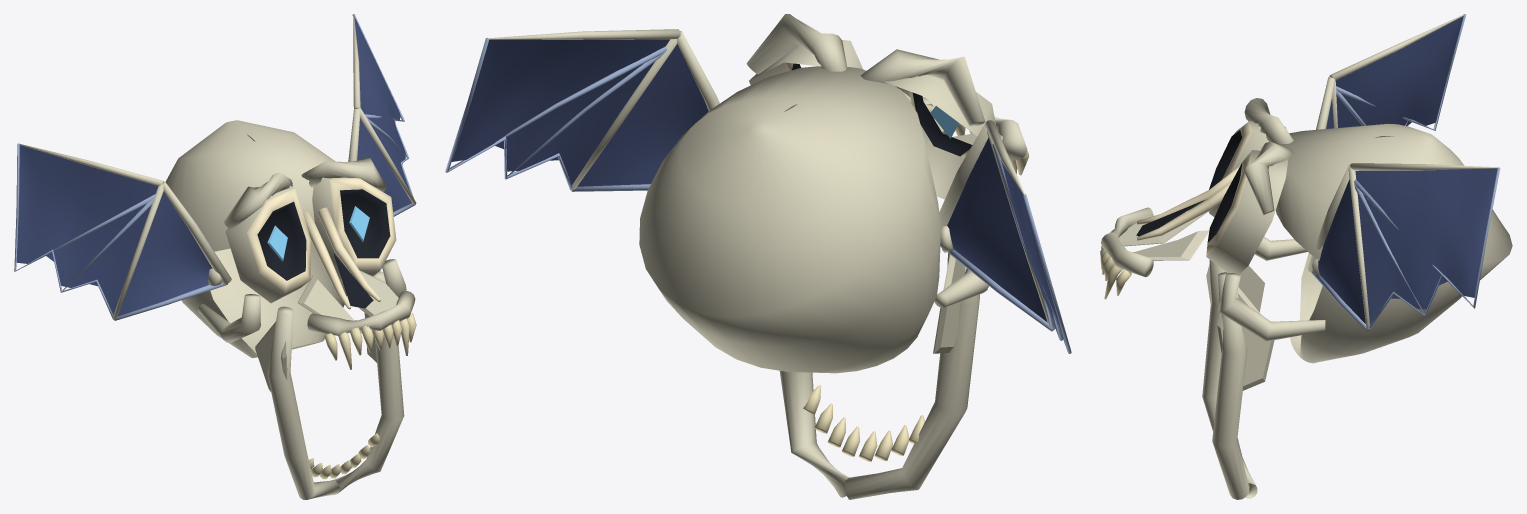
File: bubbles.glb
3 renders of one model, left to right at view 1: azimuth 30°, elevation 25°; view 2: azimuth 150°, elevation 25°; view 3: azimuth 270°, elevation 25°, orthographic. The views are drawn at different scales.
Parts seen in each view (by area): view 1: Bubble.0.15.open cranial vault, Bubble.0.13.scalloped distal membrane, Bubble.0.15.deep splayed orbital socket, Bubble.0.14.pliant proximal membrane, Bubble.0.15.deep splayed orbital socket.001, Bubble.0.04.continuous lower jaw, Bubble.0.04.continuous lower jaw.001, Bubble.0.08.scalloped distal membrane, Bubble.0.15.upper dental arch, Bubble.0.15.zygomatic cheek arch, Bubble.0.15.heavy curved brow.001, Bubble.0.09.pliant proximal membrane (+17 smaller); view 2: Bubble.0.15.open cranial vault, Bubble.0.08.scalloped distal membrane, Bubble.0.09.pliant proximal membrane, Bubble.0.14.pliant proximal membrane, Bubble.0.04.continuous lower jaw, Bubble.0.15.deep splayed orbital socket, Bubble.0.15.heavy curved brow, Bubble.0.04.continuous lower jaw.001, Bubble.0.15.heavy curved brow.001, Bubble.0.13.scalloped distal membrane, Bubble.0.08.leading wing finger, Bubble.0.04.ascending mandibular ramus (+11 smaller); view 3: Bubble.0.15.open cranial vault, Bubble.0.08.scalloped distal membrane, Bubble.0.13.scalloped distal membrane, Bubble.0.15.deep splayed orbital socket.001, Bubble.0.04.continuous lower jaw.001, Bubble.0.09.pliant proximal membrane, Bubble.0.15.zygomatic cheek arch.001, Bubble.0.04.continuous lower jaw, Bubble.0.15.upper dental arch, Bubble.0.15.deep splayed orbital socket, Bubble.0.04.ascending mandibular ramus.001, Bubble.0.15.heavy curved brow.001 (+15 smaller).
Boxes of the visible parts, bbox=[...] form: Bubble.0.15.open cranial vault: bbox=[165, 120, 346, 358]; Bubble.0.13.scalloped distal membrane: bbox=[16, 145, 158, 314]; Bubble.0.15.deep splayed orbital socket: bbox=[225, 185, 311, 303]; Bubble.0.14.pliant proximal membrane: bbox=[117, 192, 212, 316]; Bubble.0.15.deep splayed orbital socket.001: bbox=[312, 177, 396, 279]; Bubble.0.04.continuous lower jaw: bbox=[267, 306, 340, 499]; Bubble.0.04.continuous lower jaw.001: bbox=[334, 271, 404, 493]; Bubble.0.08.scalloped distal membrane: bbox=[354, 17, 409, 190]; Bubble.0.15.upper dental arch: bbox=[307, 290, 415, 335]; Bubble.0.15.zygomatic cheek arch: bbox=[198, 294, 260, 342]; Bubble.0.15.heavy curved brow.001: bbox=[301, 157, 386, 192]; Bubble.0.09.pliant proximal membrane: bbox=[357, 118, 411, 211]; Bubble.0.15.open cranial vault: bbox=[639, 66, 940, 373]; Bubble.0.08.scalloped distal membrane: bbox=[451, 39, 670, 184]; Bubble.0.09.pliant proximal membrane: bbox=[577, 44, 708, 186]; Bubble.0.14.pliant proximal membrane: bbox=[947, 138, 1047, 322]; Bubble.0.04.continuous lower jaw: bbox=[845, 253, 979, 499]; Bubble.0.15.deep splayed orbital socket: bbox=[884, 75, 996, 199]; Bubble.0.15.heavy curved brow: bbox=[860, 49, 985, 126]; Bubble.0.04.continuous lower jaw.001: bbox=[779, 371, 849, 497]; Bubble.0.15.heavy curved brow.001: bbox=[746, 14, 847, 74]; Bubble.0.13.scalloped distal membrane: bbox=[1001, 160, 1060, 327]; Bubble.0.08.leading wing finger: bbox=[487, 29, 680, 39]; Bubble.0.04.ascending mandibular ramus: bbox=[933, 255, 965, 353]; Bubble.0.15.open cranial vault: bbox=[1275, 123, 1512, 363]; Bubble.0.08.scalloped distal membrane: bbox=[1355, 168, 1497, 324]; Bubble.0.13.scalloped distal membrane: bbox=[1335, 16, 1463, 127]; Bubble.0.15.deep splayed orbital socket.001: bbox=[1206, 150, 1288, 274]; Bubble.0.04.continuous lower jaw.001: bbox=[1212, 272, 1257, 499]; Bubble.0.09.pliant proximal membrane: bbox=[1318, 179, 1365, 323]; Bubble.0.15.zygomatic cheek arch.001: bbox=[1218, 273, 1325, 341]; Bubble.0.04.continuous lower jaw: bbox=[1202, 260, 1257, 487]; Bubble.0.15.upper dental arch: bbox=[1101, 207, 1153, 277]; Bubble.0.15.deep splayed orbital socket: bbox=[1209, 121, 1286, 217]; Bubble.0.04.ascending mandibular ramus.001: bbox=[1217, 287, 1274, 390]; Bubble.0.15.heavy curved brow.001: bbox=[1244, 141, 1293, 215].
Bounding box in the file's own units: 32.64 × 27.8 × 25.87.
